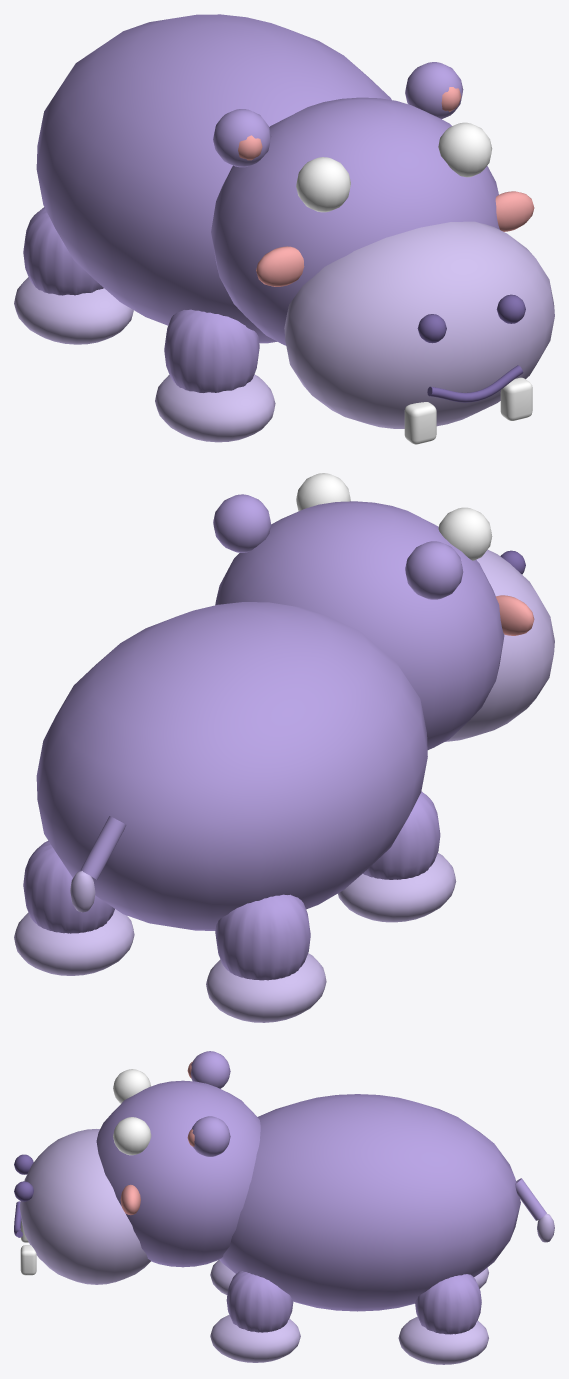
Rendered from hippo.glb.
3 views of the same model, one above another, from view 1: azimuth 30°, elevation 25°; view 2: azimuth 150°, elevation 25°; view 3: azimuth 270°, elevation 25° (orthographic). The views are drawn at different scales.
Parts seen in each view (by area): view 1: body, muzzle, skull, leg0, foot0, foot2, leg2, eyewhite-1, ear-1, eyewhite1, ear1, cheek-1 (+6 smaller); view 2: body, skull, muzzle, leg2, foot2, foot3, foot0, leg3, leg0, ear-1, ear1, eyewhite-1 (+4 smaller); view 3: body, skull, muzzle, leg3, leg1, foot3, foot1, ear1, ear-1, eyewhite1, eyewhite-1, tailmesh (+4 smaller).
Boxes of the visible parts, <box> form: body: <box>36,14,391,343</box>; muzzle: <box>284,221,554,428</box>; skull: <box>211,97,499,345</box>; leg0: <box>164,309,259,392</box>; foot0: <box>155,374,275,442</box>; foot2: <box>14,277,133,344</box>; leg2: <box>23,207,103,295</box>; eyewhite-1: <box>296,157,350,212</box>; ear-1: <box>213,109,271,167</box>; eyewhite1: <box>438,122,492,177</box>; ear1: <box>405,62,463,119</box>; cheek-1: <box>256,246,304,286</box>; body: <box>36,602,427,930</box>; skull: <box>215,501,504,749</box>; muzzle: <box>445,549,554,741</box>; leg2: <box>215,894,310,980</box>; foot2: <box>206,953,326,1022</box>; foot3: <box>14,909,134,975</box>; foot0: <box>338,853,456,922</box>; leg3: <box>23,840,114,933</box>; leg0: <box>363,791,440,879</box>; ear-1: <box>405,541,463,599</box>; ear1: <box>213,494,271,552</box>; eyewhite-1: <box>438,507,492,560</box>; body: <box>219,1094,520,1311</box>; skull: <box>96,1080,260,1267</box>; muzzle: <box>19,1129,150,1284</box>; leg3: <box>415,1274,481,1334</box>; leg1: <box>226,1271,293,1332</box>; foot3: <box>398,1316,488,1364</box>; foot1: <box>210,1315,300,1362</box>; ear1: <box>191,1116,230,1156</box>; ear-1: <box>191,1051,230,1088</box>; eyewhite1: <box>113,1117,151,1155</box>; eyewhite-1: <box>113,1069,150,1103</box>; tailmesh: <box>515,1178,546,1220</box>.
Size of the model in its own units: 1.12 by 1.17 by 2.39.
